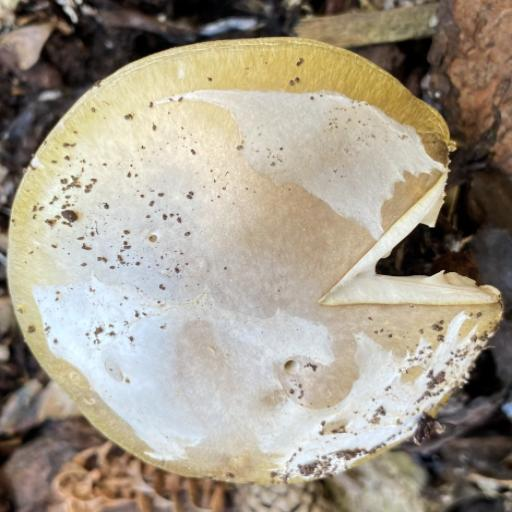mushroom: (13, 42, 487, 475)
